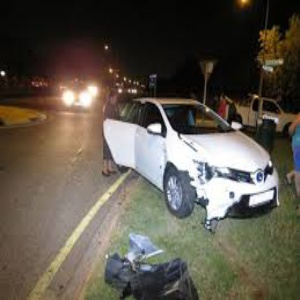bumper: (198, 178, 246, 220)
